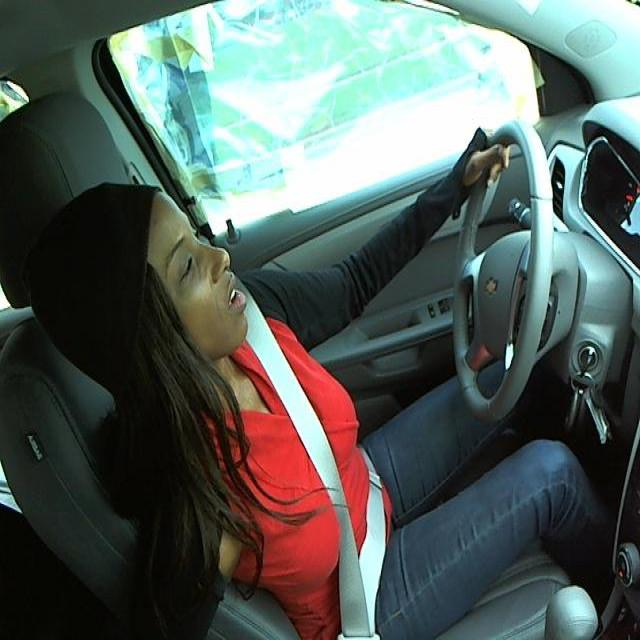seatbelt: (244, 347, 382, 628)
